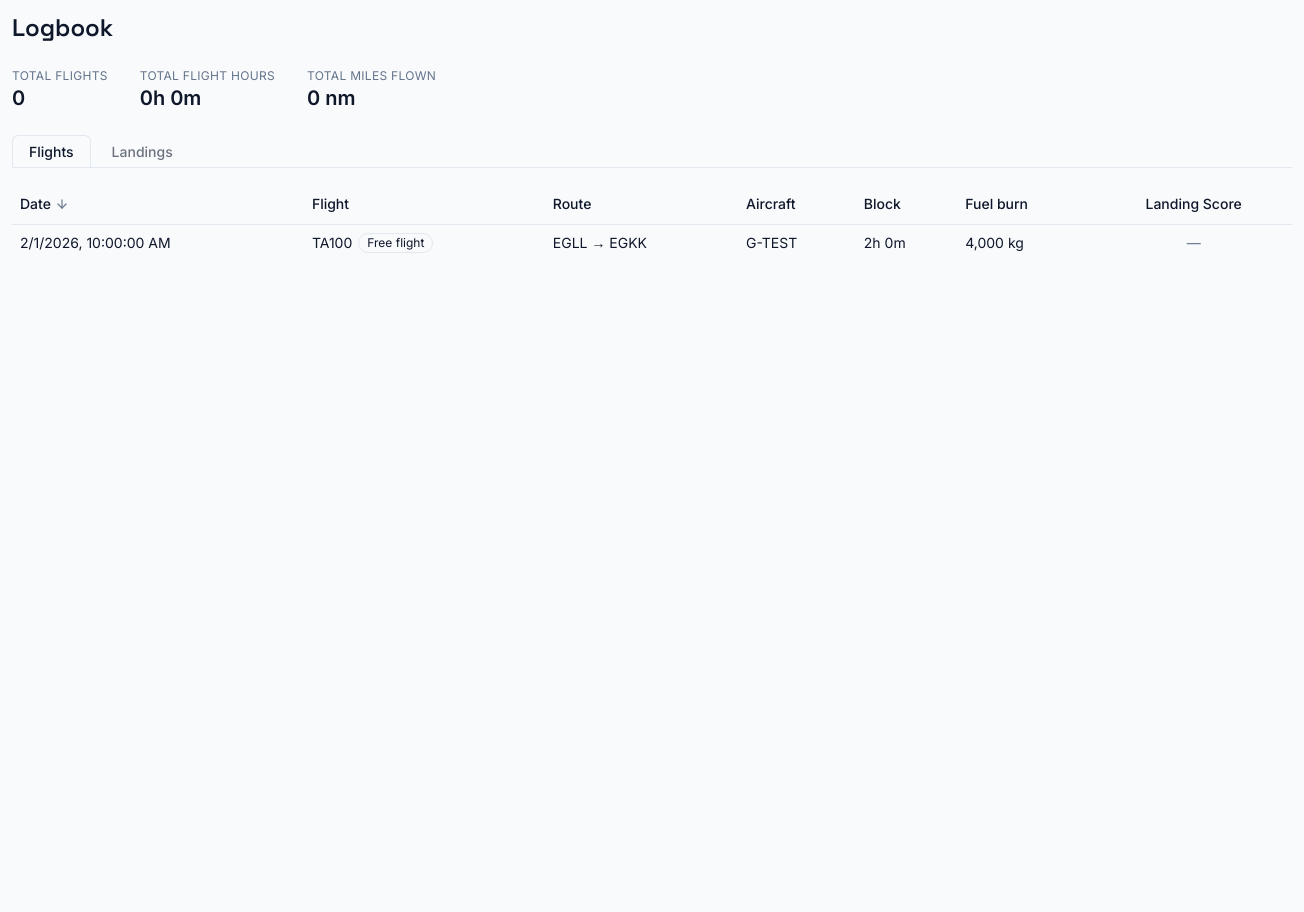
Test: FlightDetail › "Add to fleet" (free-flight-tracking.md follow-up) › shows "Add to fleet" only for a free flight with no linked aircraft
Click the text "TA100" at (373, 242), box [312,232,433,252]
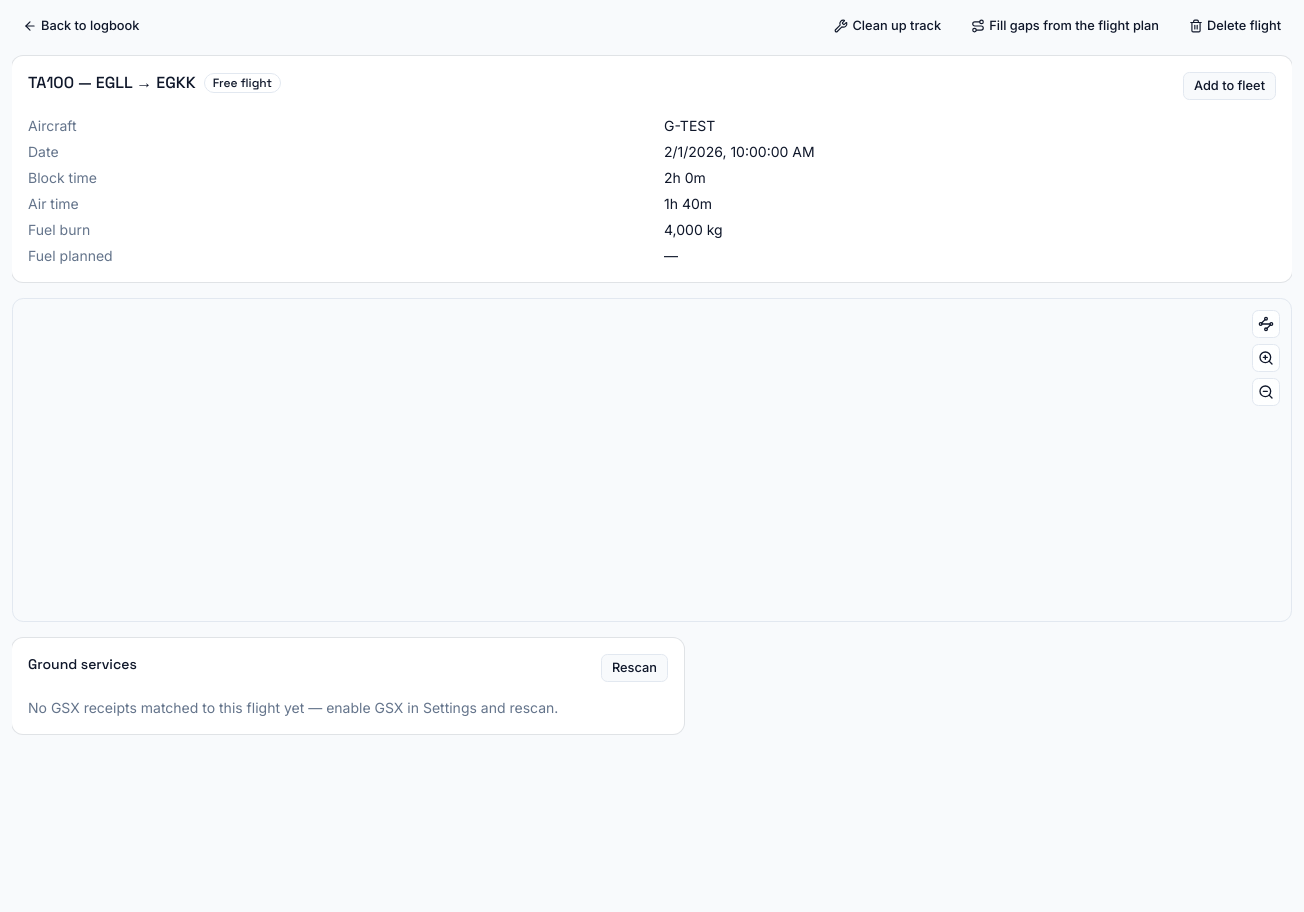
Expected: the button "Add to fleet" is shown, [1183,72,1276,100]
